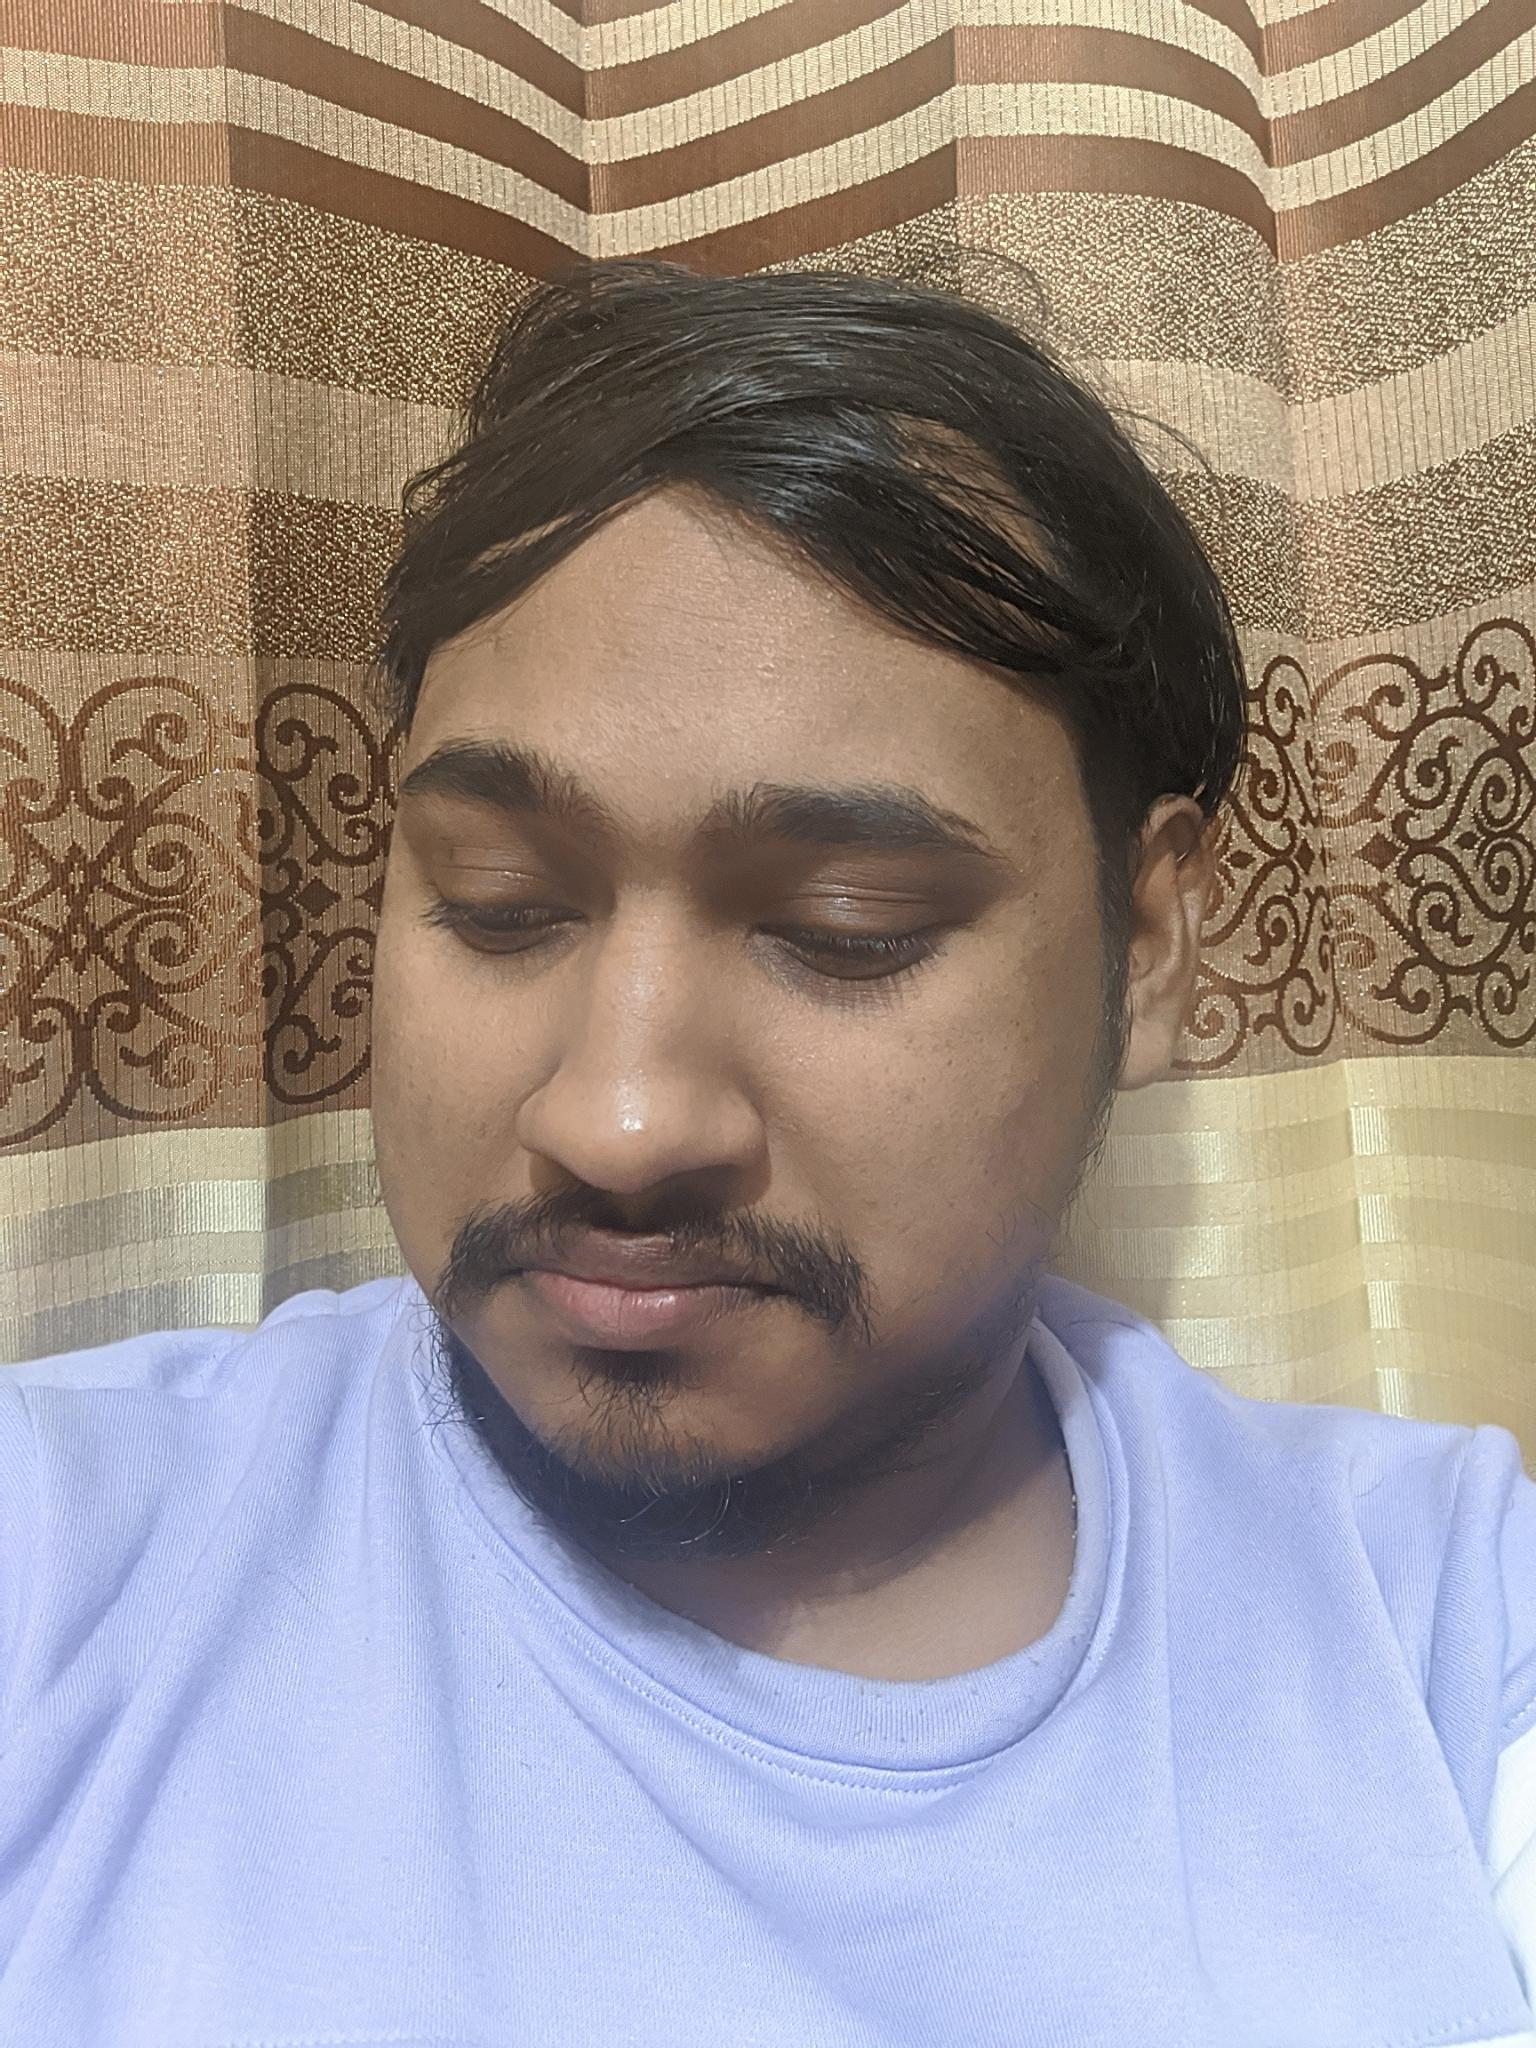Sad: (352, 610, 1034, 1532)
